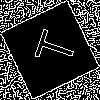T: (25, 25, 78, 69)
